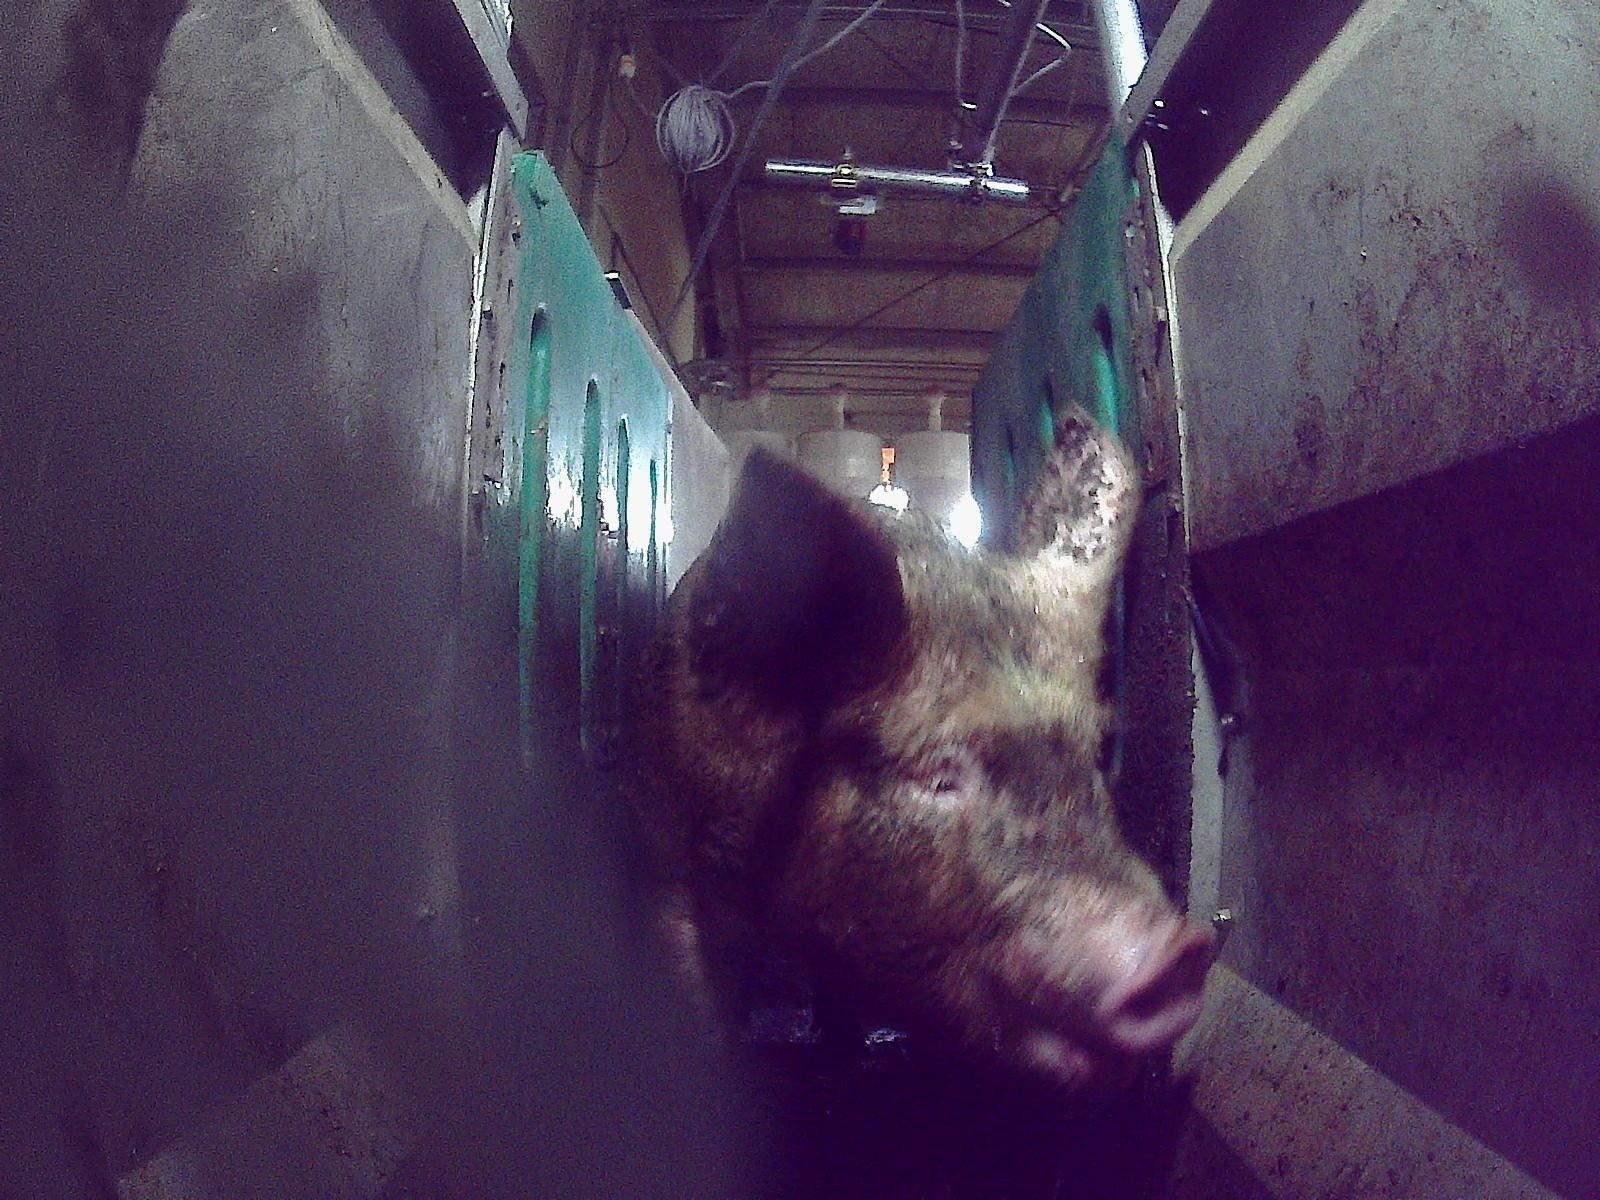Face: (723, 535, 1211, 1101)
